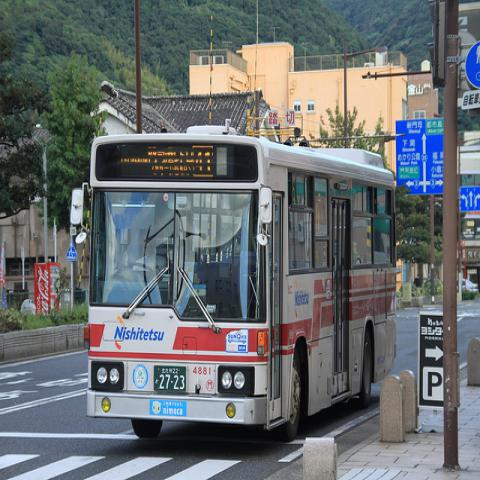bus: (88, 125, 397, 434)
car: (457, 278, 478, 301)
